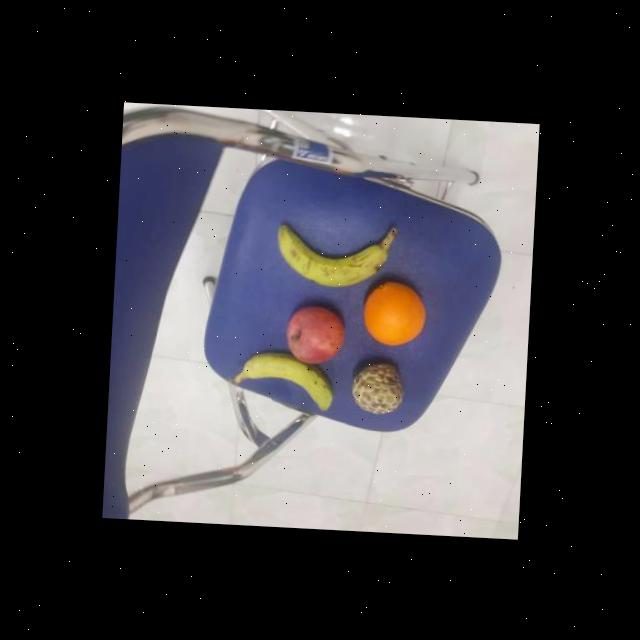Sakya fruit: (347, 360, 408, 417)
apple: (283, 304, 349, 364)
banana: (273, 220, 388, 292), (242, 349, 338, 415)
orange: (360, 278, 430, 346)
